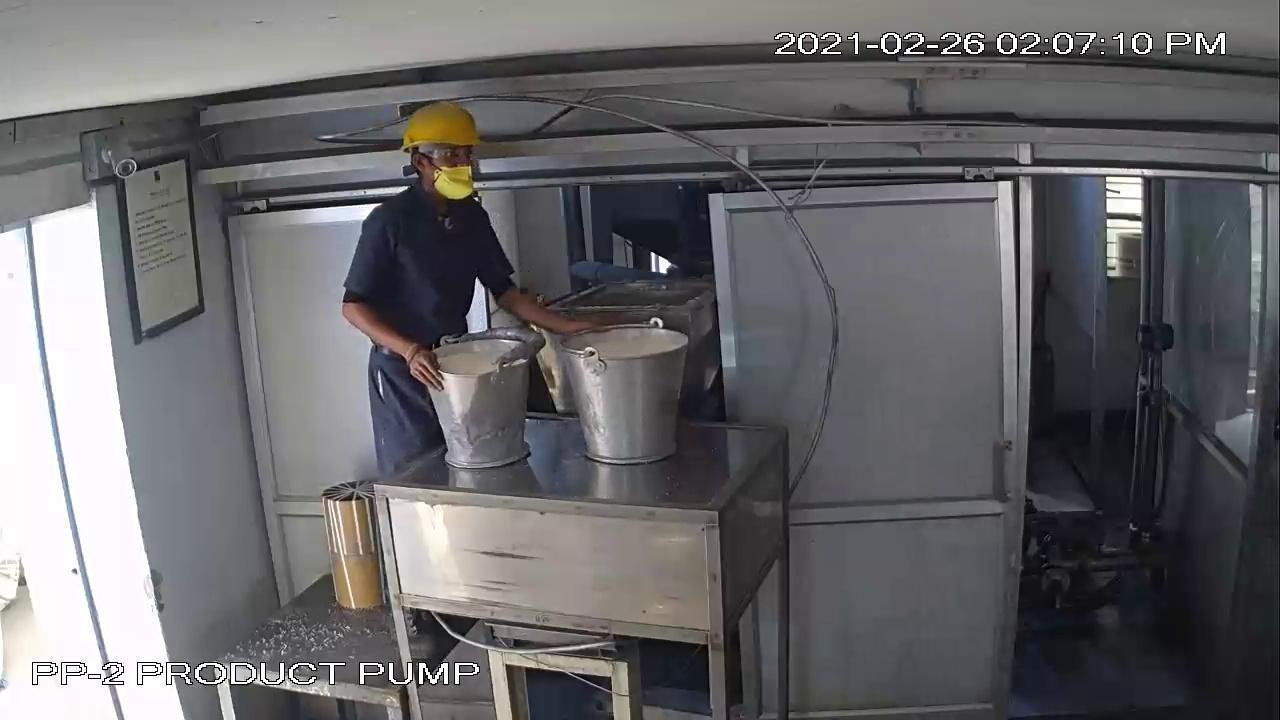helmet: (387, 97, 500, 160)
